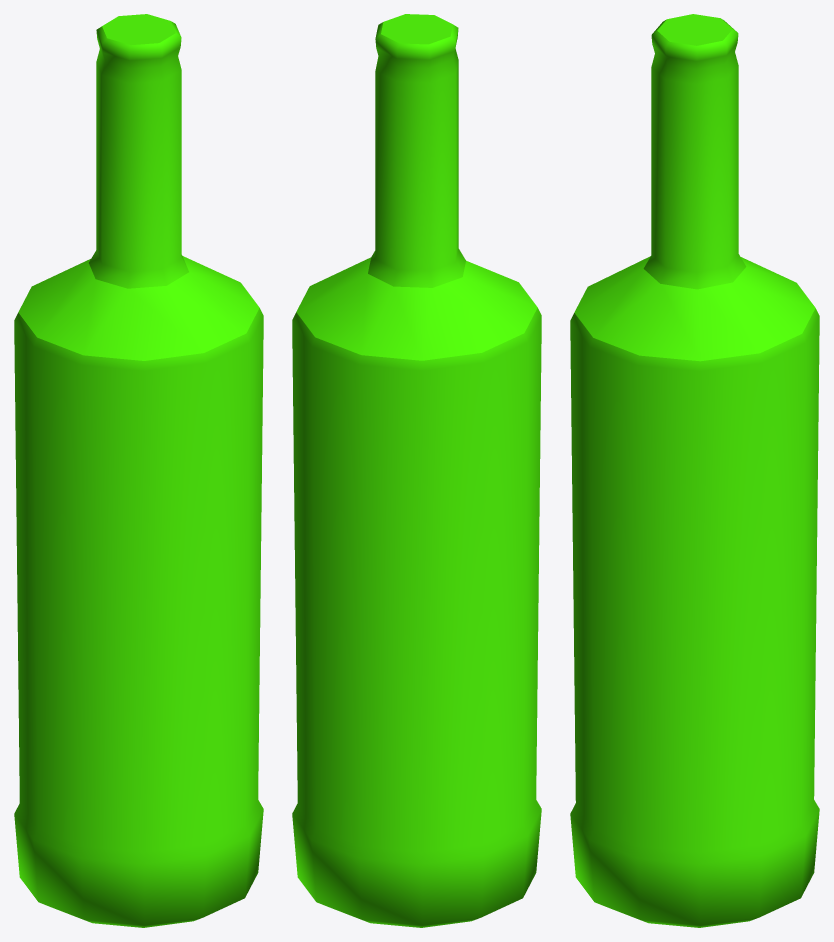
Rendered from 20_amaro.gltf.
3 views of the same model, side by side, from view 1: azimuth 30°, elevation 25°; view 2: azimuth 150°, elevation 25°; view 3: azimuth 270°, elevation 25° (orthographic).
Visible parts, largest first — view 1: Ramazzotti_Atlas_0; view 2: Ramazzotti_Atlas_0; view 3: Ramazzotti_Atlas_0.
Part boxes in pixels (x1,y1,x2,y2): Ramazzotti_Atlas_0: [14, 14, 263, 927]; Ramazzotti_Atlas_0: [292, 14, 541, 927]; Ramazzotti_Atlas_0: [570, 14, 819, 927].
Bounding box in the file's own units: 7.59 × 28.73 × 7.59.
Materials: 1 (1 with a texture image).
